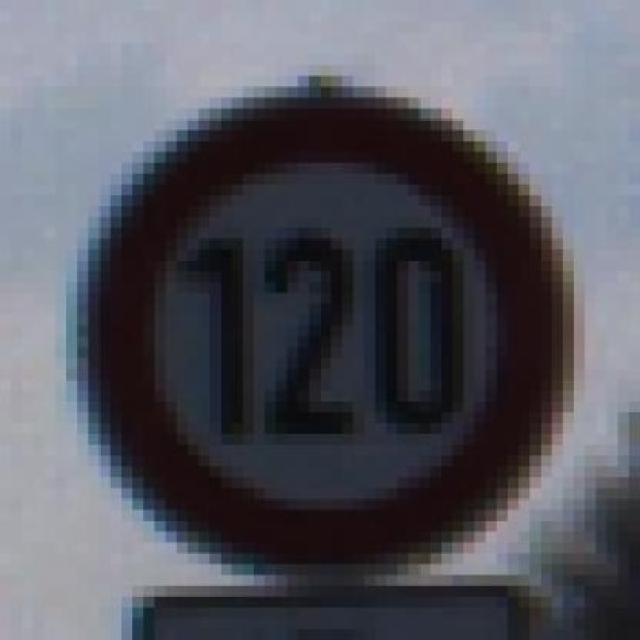forb_speed_over_120: (89, 100, 566, 562)
